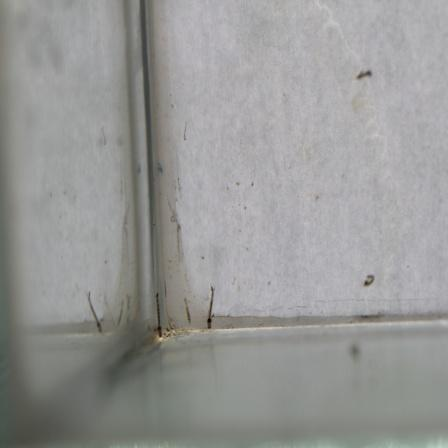Jentik-Nyamuk: (200, 282, 219, 332), (149, 288, 167, 340), (357, 270, 379, 292), (354, 66, 375, 84)
